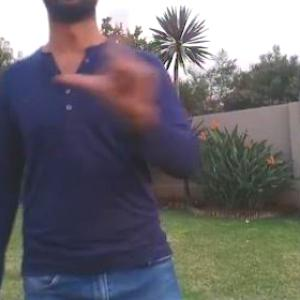land_hand: (50, 6, 165, 110)
